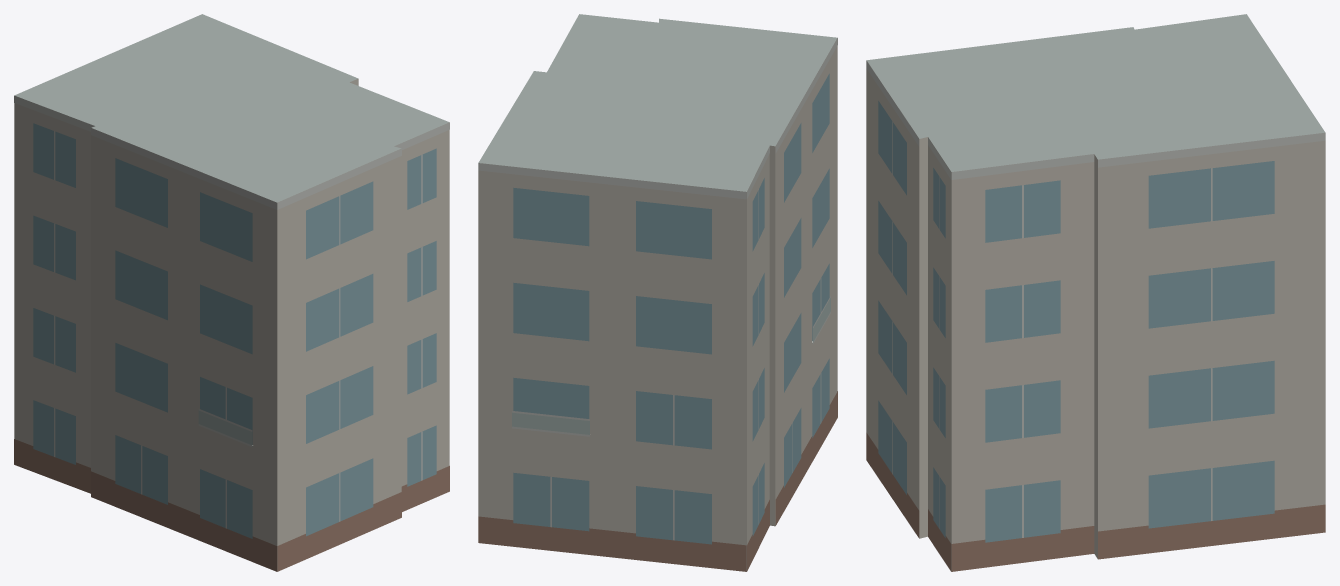
The model's file is survey-upis-32694907.glb.
3 views of the same model, side by side, from view 1: azimuth 30°, elevation 25°; view 2: azimuth 150°, elevation 25°; view 3: azimuth 270°, elevation 25° (orthographic). The views are drawn at different scales.
Parts seen in each view (by area): view 1: survey-upis-32694907.tmp; view 2: survey-upis-32694907.tmp; view 3: survey-upis-32694907.tmp.
Boxes of the visible parts, x1,y1,x2,y2 form: survey-upis-32694907.tmp: [14, 14, 449, 571]; survey-upis-32694907.tmp: [478, 14, 837, 571]; survey-upis-32694907.tmp: [866, 14, 1325, 571].
Size of the model in its own units: 10.36 by 12.2 by 12.71.
